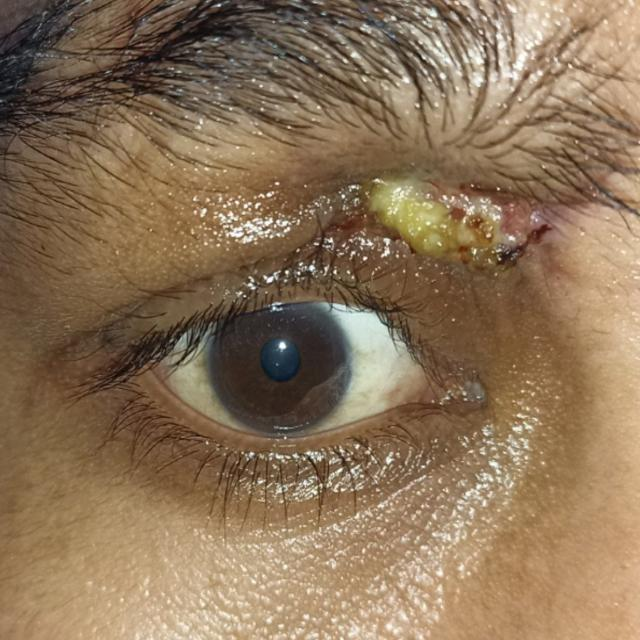Normal: (206, 292, 351, 432)
